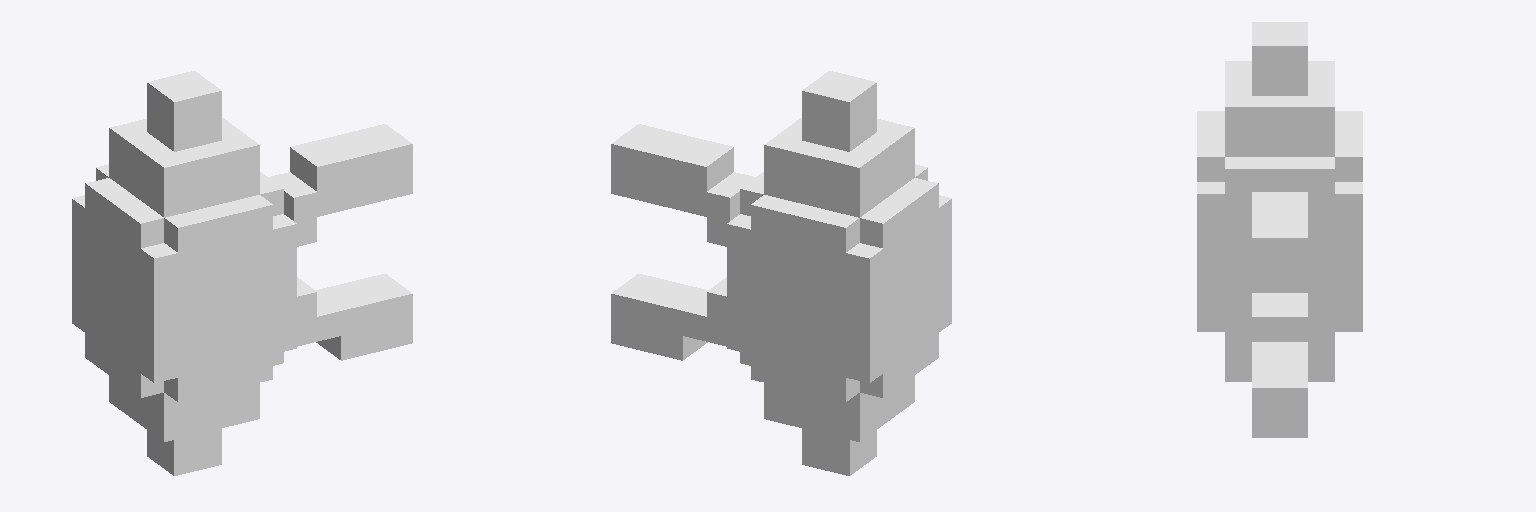
The model's file is any1.obj.
3 renders of one model, left to right at view 1: azimuth 30°, elevation 25°; view 2: azimuth 150°, elevation 25°; view 3: azimuth 270°, elevation 25°, orthographic.
Visible parts, largest first — view 1: object 1; view 2: object 1; view 3: object 1.
Boxes of the visible parts, x1,y1,x2,y2 form: object 1: [72, 71, 412, 475]; object 1: [611, 71, 951, 475]; object 1: [1197, 22, 1362, 437].
Size of the model in its own units: 1.2 by 1.5 by 0.6.